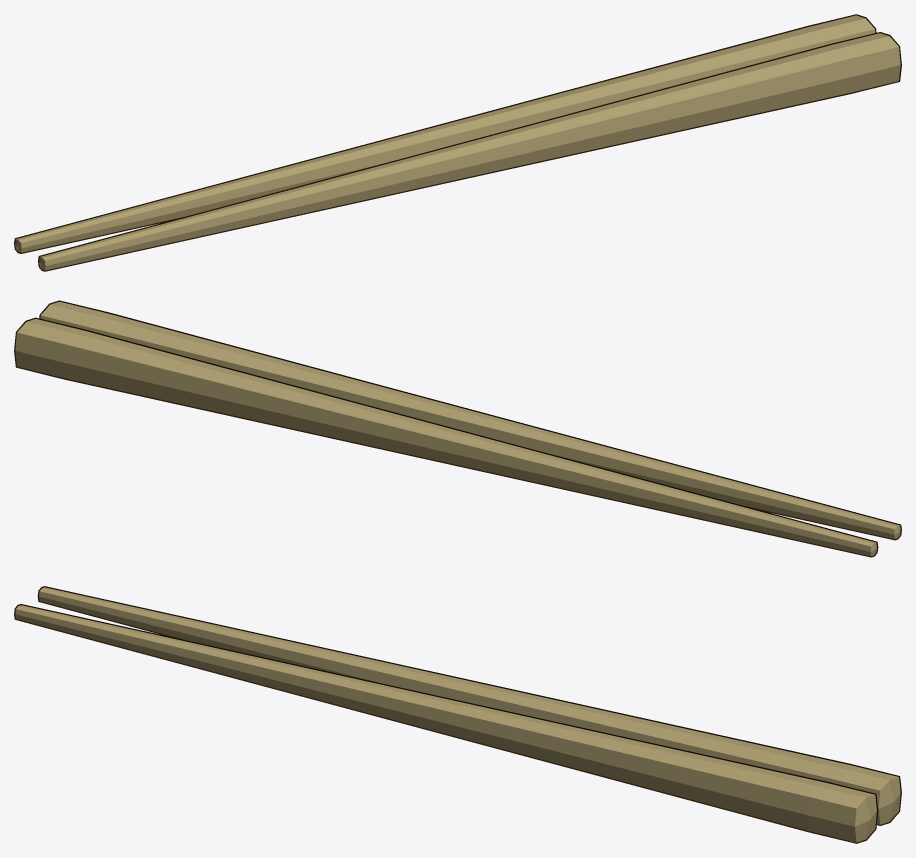
Rendered from Chopsticks_Variation1_(Outlined)v002.fbx.
The picture shows the model from 3 angles, top to bottom: view 1: azimuth 30°, elevation 25°; view 2: azimuth 150°, elevation 25°; view 3: azimuth 330°, elevation 25°; orthographic projection.
Parts seen in each view (by area): view 1: ChopsticksVariation1; view 2: ChopsticksVariation1; view 3: ChopsticksVariation1.
Part boxes in pixels (left/top/right/bottom): ChopsticksVariation1: left=14, top=14, right=901, bottom=271; ChopsticksVariation1: left=14, top=300, right=901, bottom=557; ChopsticksVariation1: left=14, top=586, right=901, bottom=843.
Size of the model in its own units: 3546 by 176 by 339.
